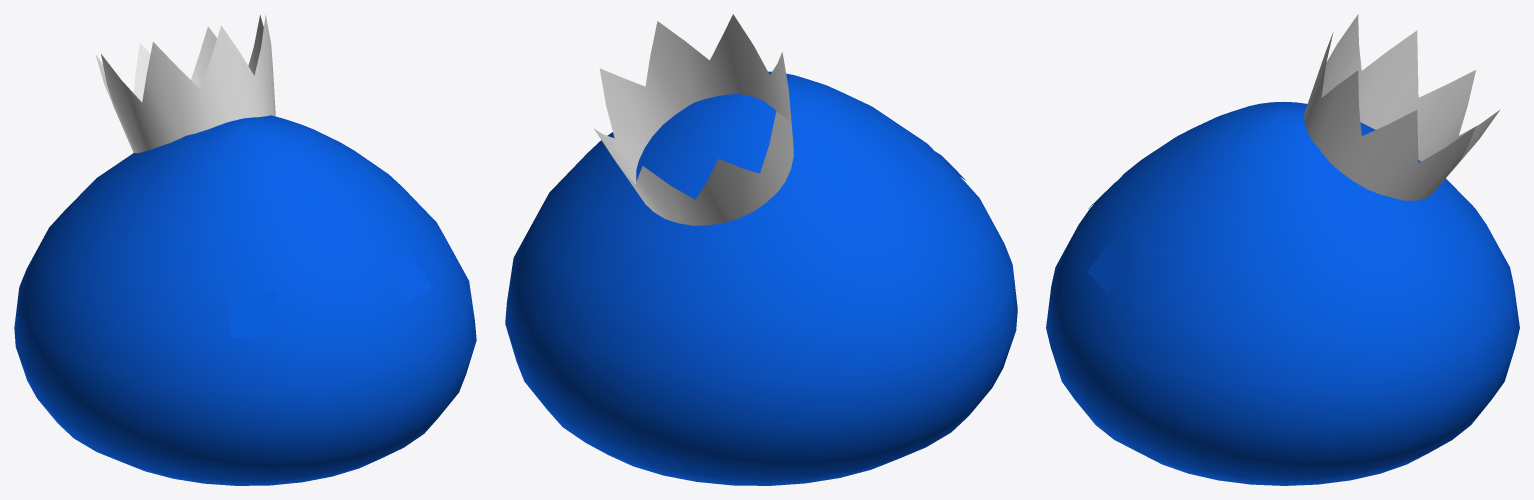
File: KingSlime.fbx
The picture shows the model from 3 angles, left to right: view 1: azimuth 30°, elevation 25°; view 2: azimuth 150°, elevation 25°; view 3: azimuth 270°, elevation 25°; orthographic projection. The views are drawn at different scales.
Parts seen in each view (by area): view 1: Slime, Crown 202112-41; view 2: Slime, Crown 202112-41; view 3: Slime, Crown 202112-41.
Part boxes in pixels (<box>): Slime: <box>14,115,476,485</box>; Crown 202112-41: <box>95,15,275,153</box>; Slime: <box>505,71,1017,485</box>; Crown 202112-41: <box>594,14,793,225</box>; Slime: <box>1046,101,1519,485</box>; Crown 202112-41: <box>1304,14,1500,200</box>.
Size of the model in its own units: 194 by 177 by 194.
